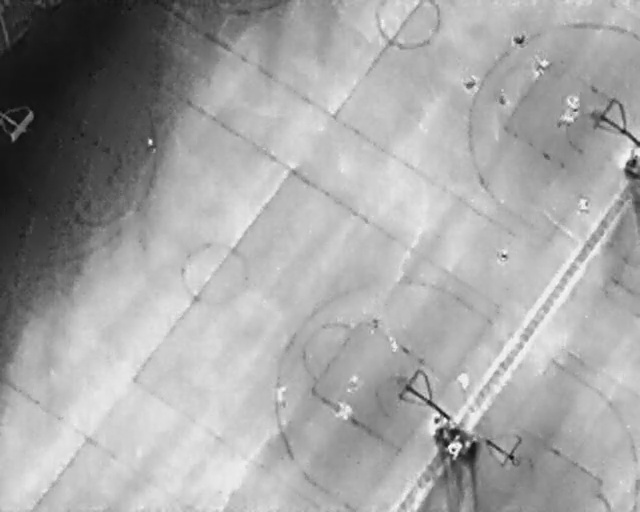Person: (528, 54, 553, 80), (330, 399, 356, 423), (460, 74, 479, 96), (344, 374, 361, 395), (510, 30, 528, 48), (274, 384, 288, 407), (143, 137, 159, 155), (558, 110, 578, 124), (565, 94, 580, 112), (386, 336, 400, 355), (495, 91, 510, 107), (457, 372, 469, 390), (578, 197, 590, 214), (497, 249, 510, 263)
